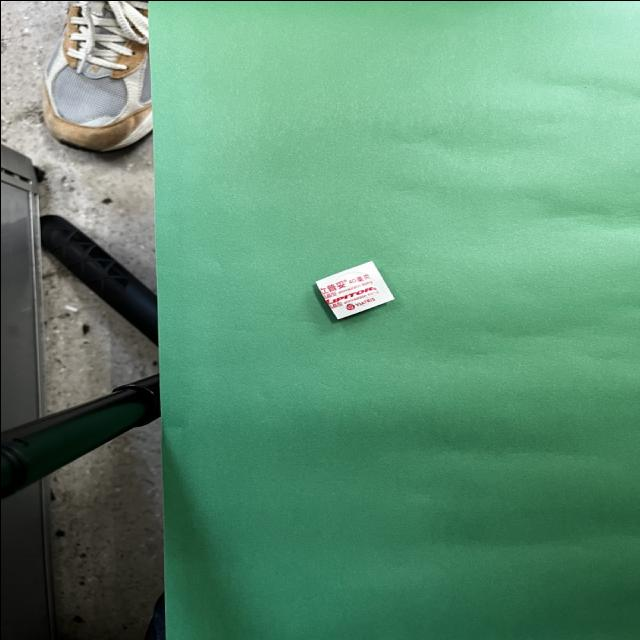Other Objects: (315, 260, 393, 318)
